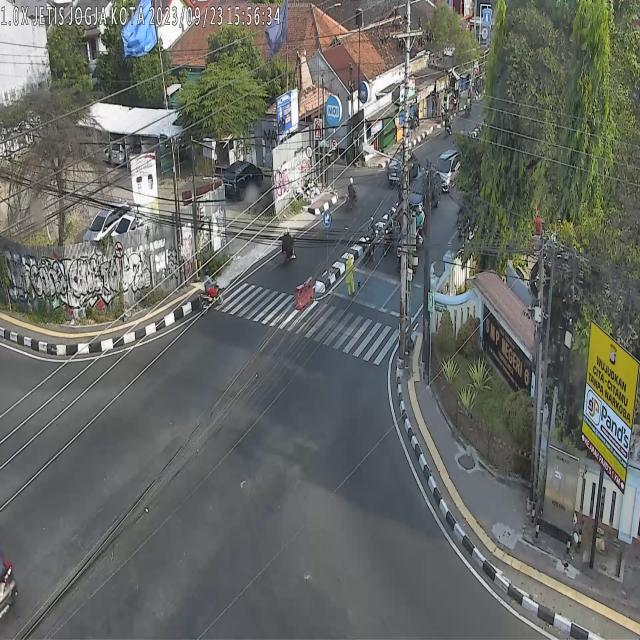car: (386, 145, 422, 184), (434, 150, 466, 191)
motorcycle: (198, 270, 225, 311), (280, 228, 295, 272), (342, 176, 358, 213)
